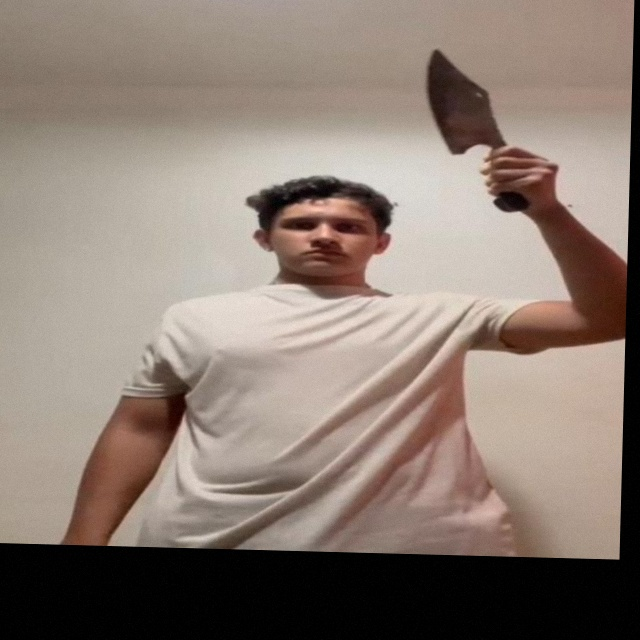Sharp-Object: (422, 46, 509, 157)
